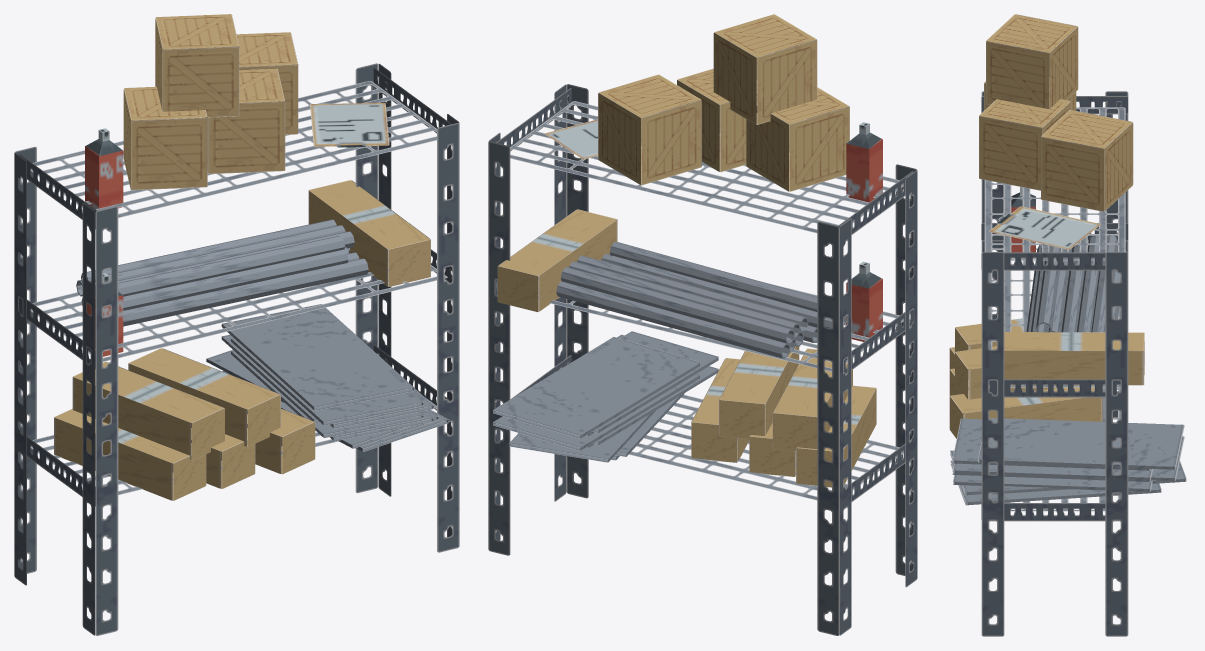
The model's file is jiazi2.fbx.
The picture shows the model from 3 angles, left to right: view 1: azimuth 30°, elevation 25°; view 2: azimuth 150°, elevation 25°; view 3: azimuth 270°, elevation 25°; orthographic projection. The views are drawn at different scales.
Visible parts, largest first — view 1: 立方体.004; view 2: 立方体.004; view 3: 立方体.004.
Part boxes in pixels (<box>): 立方体.004: <box>14,14,459,635</box>; 立方体.004: <box>488,14,917,635</box>; 立方体.004: <box>949,14,1186,636</box>.
Bounding box in the file's own units: 380 × 551 × 244.
